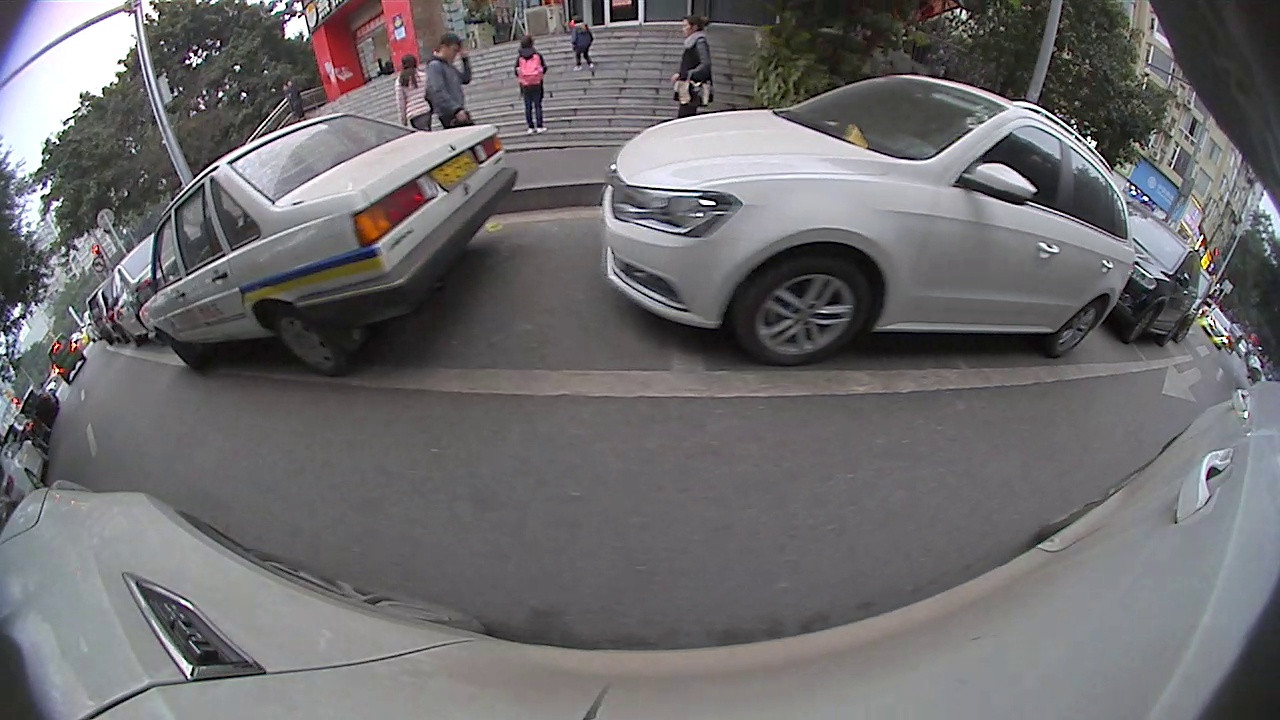car: (598, 68, 1139, 371), (138, 106, 519, 373), (1103, 204, 1207, 346)
front: (744, 249, 876, 363), (1130, 297, 1163, 342)
person: (428, 25, 480, 127), (677, 4, 716, 116), (516, 25, 552, 136), (392, 48, 430, 127), (566, 11, 598, 73)
rear: (270, 304, 352, 373), (1054, 292, 1104, 359)
